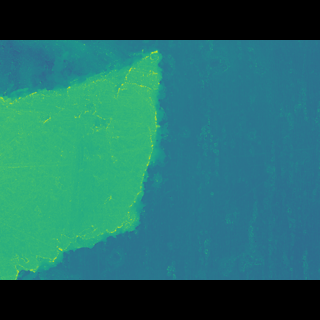Loch: (0, 69, 183, 250)
